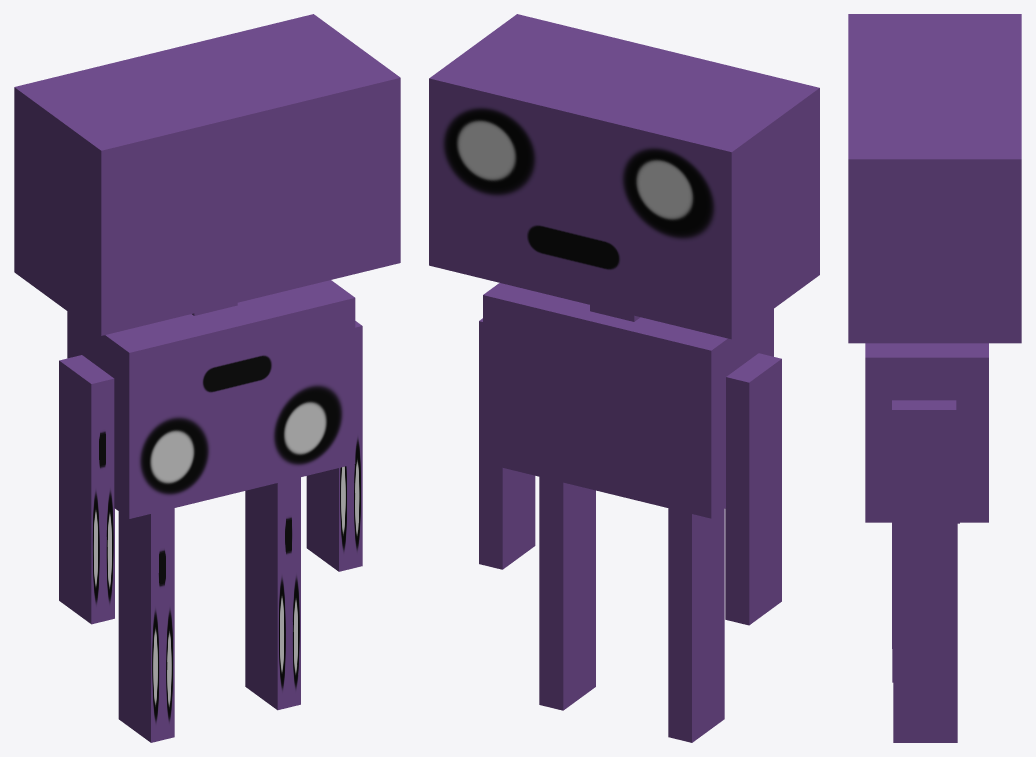
File: player.glb
3 views of the same model, side by side, from view 1: azimuth 30°, elevation 25°; view 2: azimuth 150°, elevation 25°; view 3: azimuth 270°, elevation 25° (orthographic).
Parts seen in each view (by area): view 1: body; view 2: body; view 3: body.
Part boxes in pixels (<box>): body: <box>14,14,400,742</box>; body: <box>429,14,819,742</box>; body: <box>848,14,1021,742</box>.
Size of the model in its own units: 0.8615 by 1.72 by 0.4339.
Materials: 1 (1 with a texture image).
